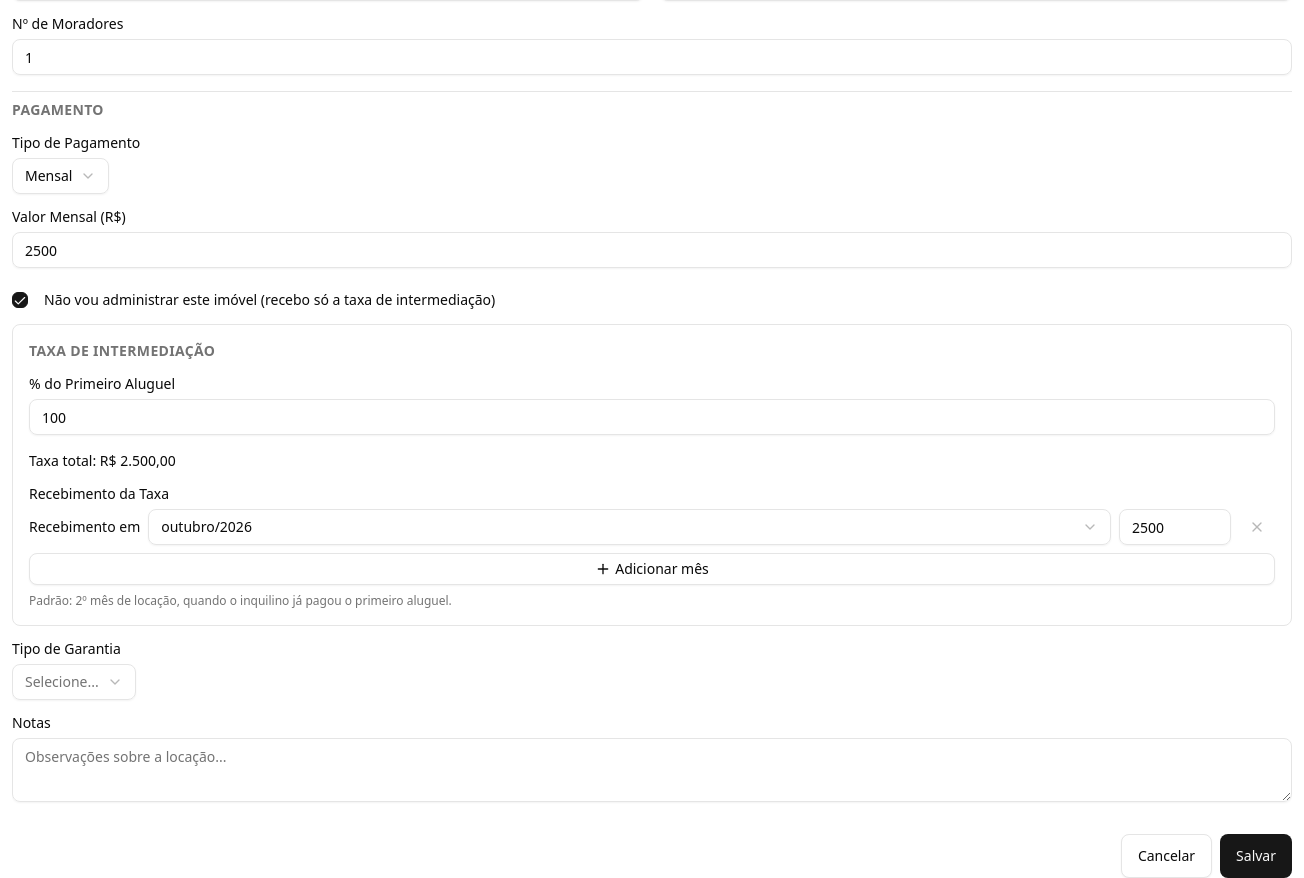
Test case: select de mês da parcela › oferece opções mesmo sem datas de check-in preenchidas
The image size is (1304, 878).
(page scrolled)
Click the dropdown named "Mês do recebimento 1" at x=207, y=526, box x1=148 y1=509 x2=1111 y2=545
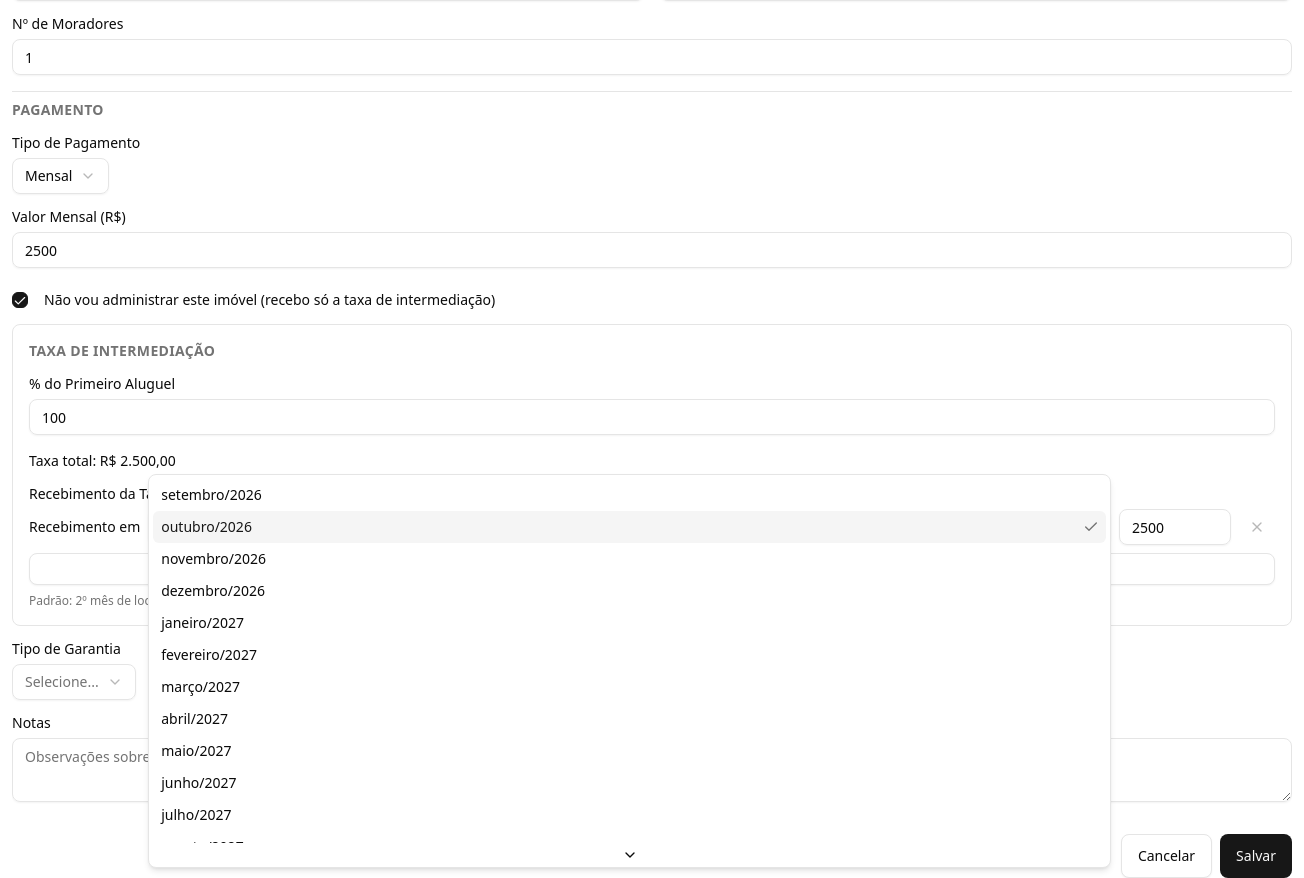
Now the option "setembro/2026" is shown, box x1=161 y1=485 x2=262 y2=504
